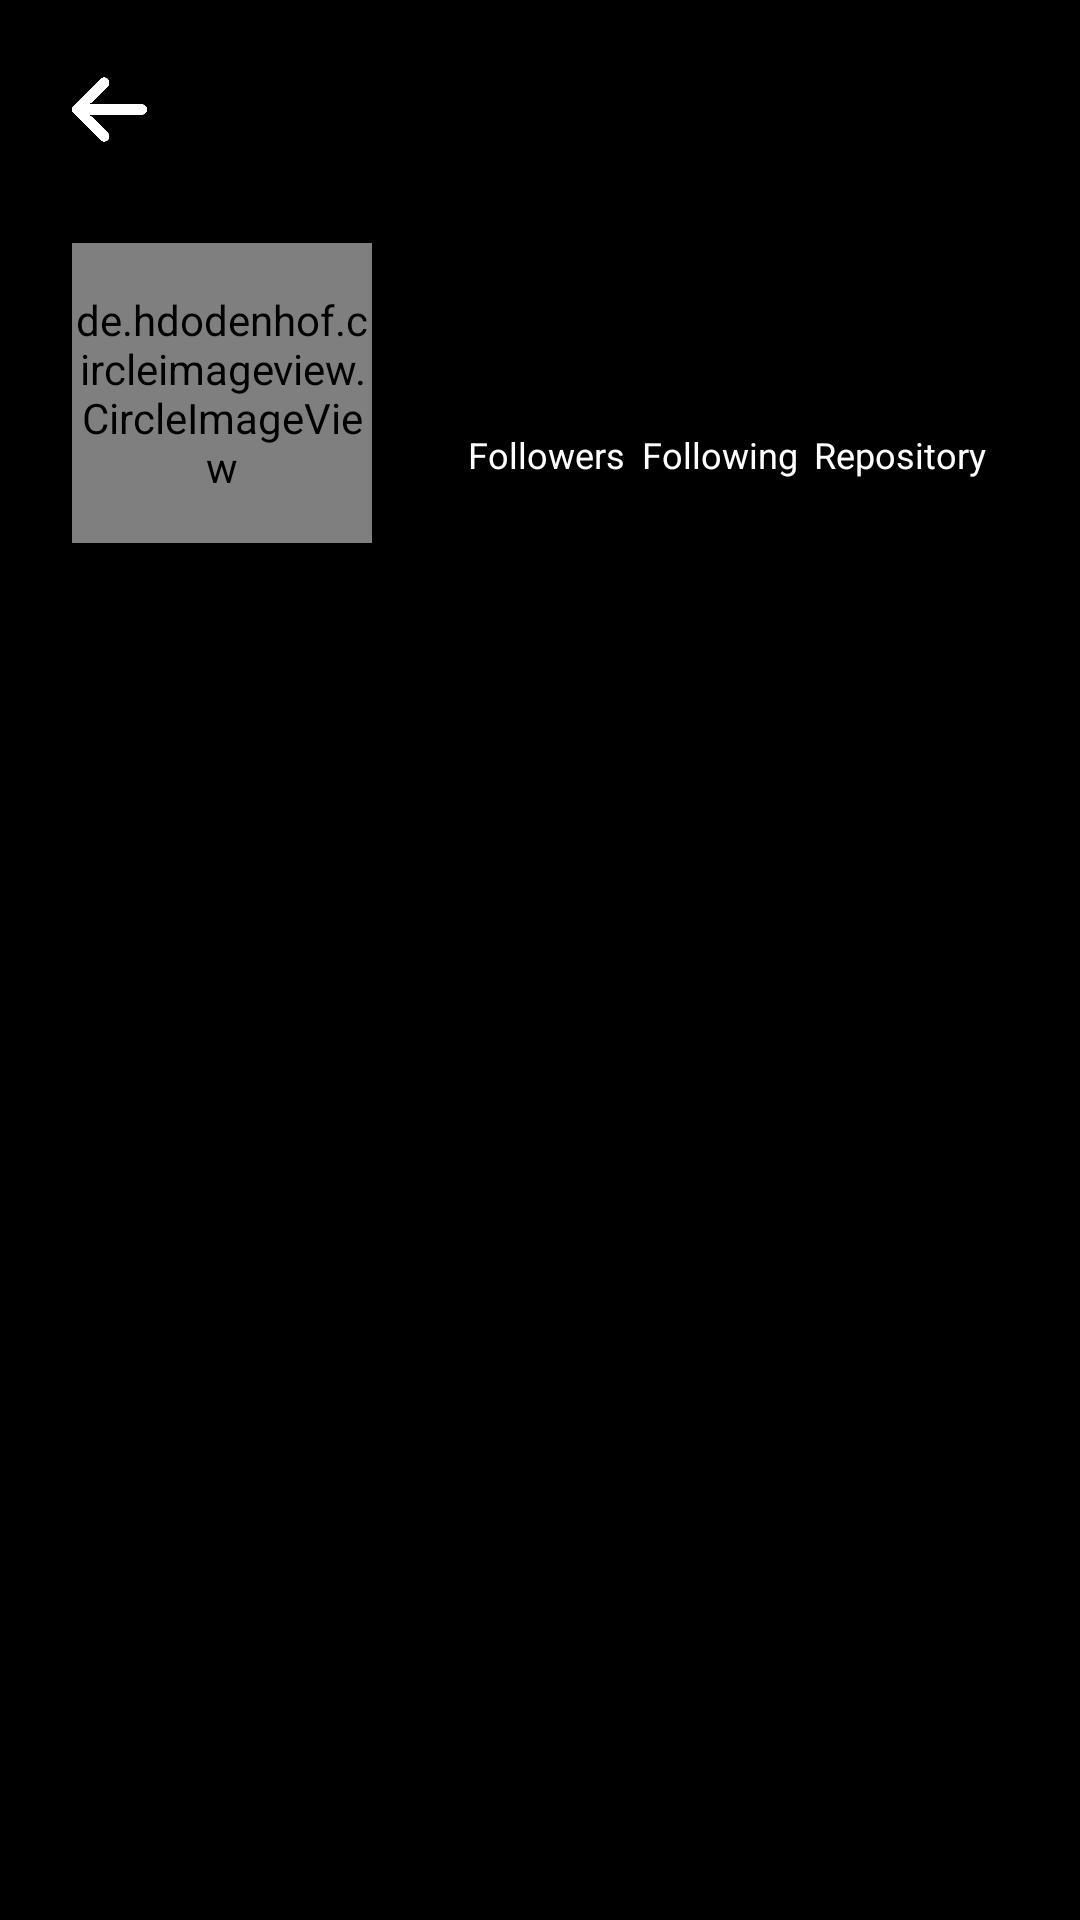

Screen size 1080px x 1920px. Icon name, then its box in pixels as (left=x1, top=y1, right=x2, bottom=y2):
back: (left=72, top=77, right=147, bottom=142)
